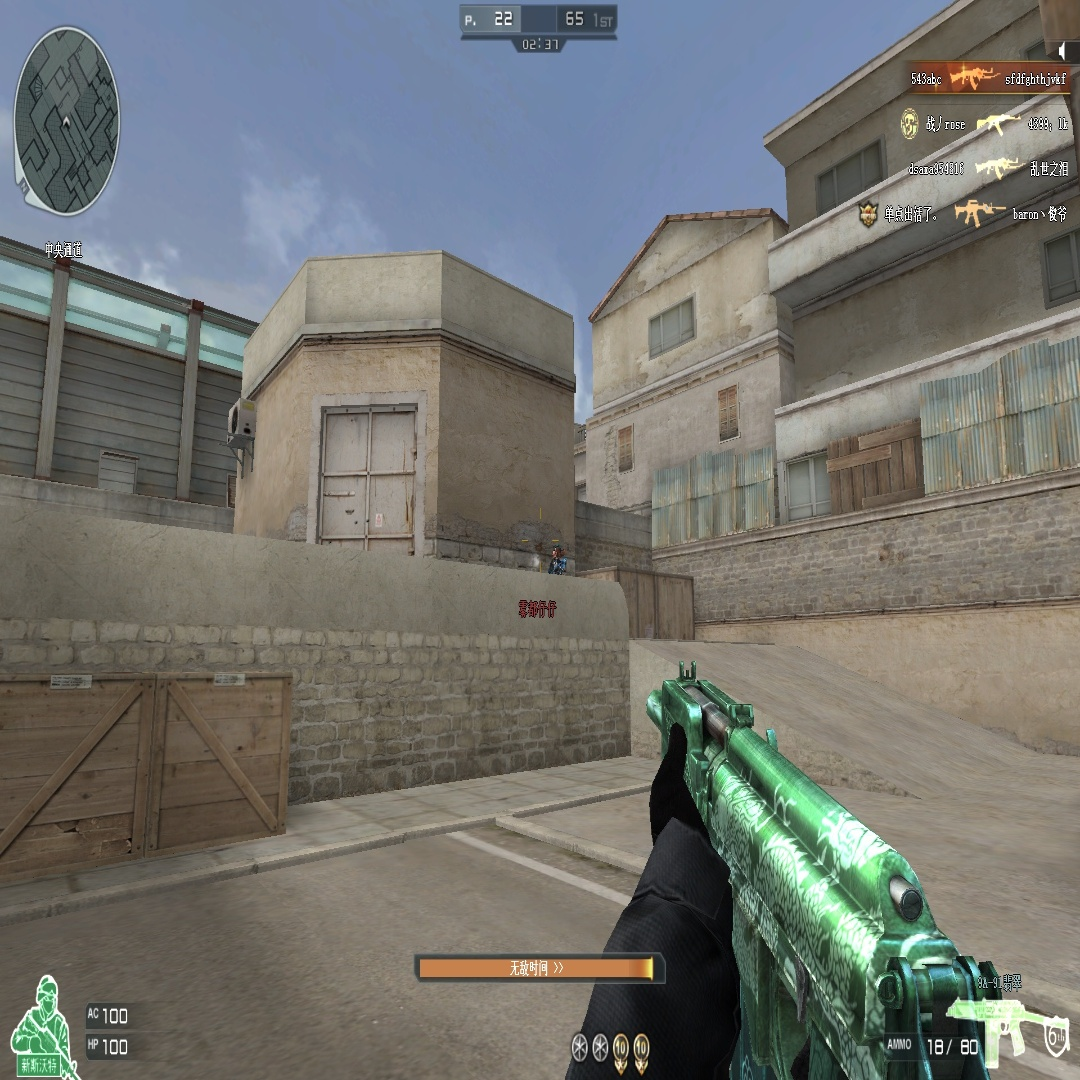head: (552, 544, 563, 560)
p: (548, 543, 566, 575)
